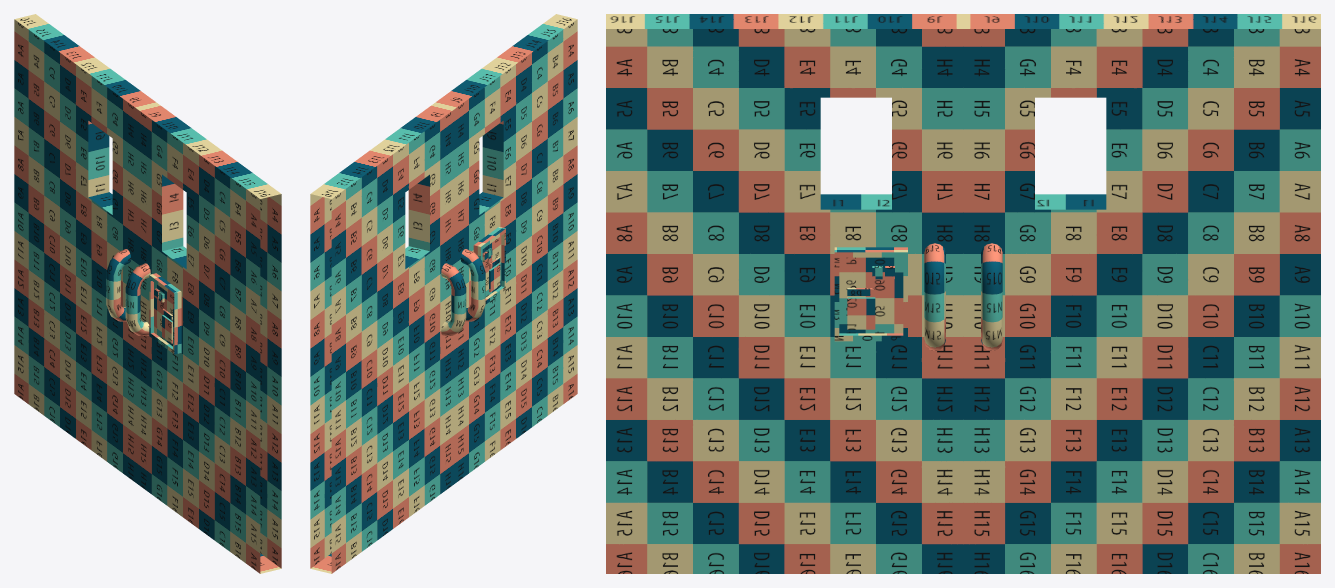
The model's file is Door.fbx.
3 renders of one model, left to right at view 1: azimuth 30°, elevation 25°; view 2: azimuth 150°, elevation 25°; view 3: azimuth 270°, elevation 25°, orthographic. The views are drawn at different scales.
Parts seen in each view (by area): view 1: Door, Door_key_panel; view 2: Door, Door_key_panel; view 3: Door, Door_key_panel.
Boxes of the visible parts, bbox=[...] form: Door: bbox=[14, 14, 281, 573]; Door_key_panel: bbox=[149, 273, 181, 354]; Door: bbox=[310, 14, 577, 573]; Door_key_panel: bbox=[473, 227, 505, 304]; Door: bbox=[606, 14, 1320, 573]; Door_key_panel: bbox=[834, 247, 907, 341].
Bounding box in the file's own units: 29.08 × 168 × 200.
